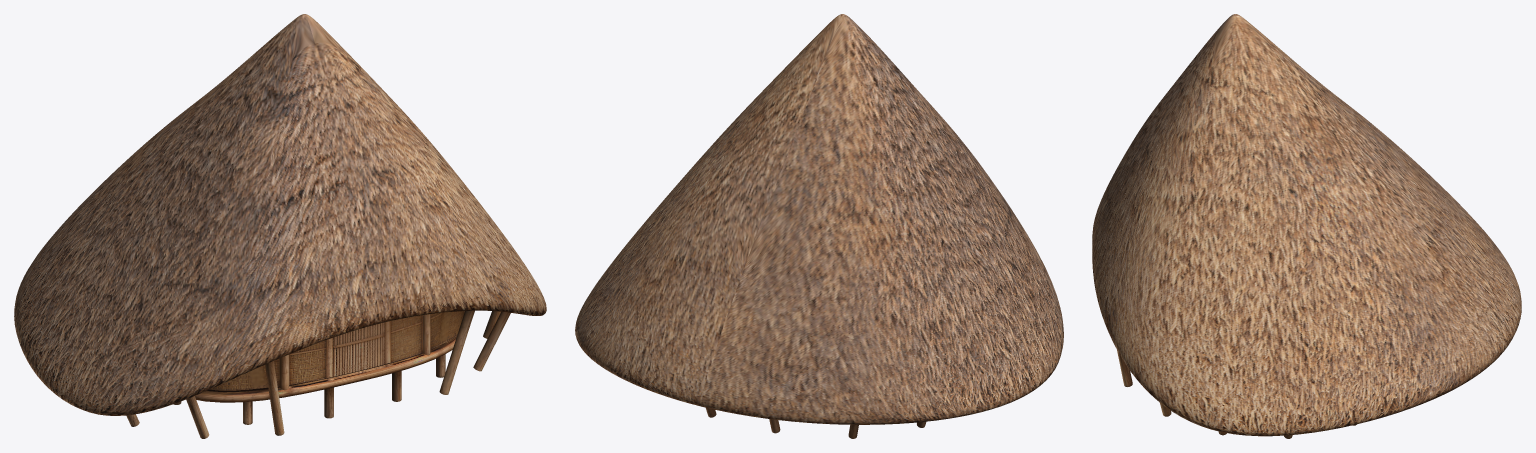
Rendered from pusaka.glb.
3 renders of one model, left to right at view 1: azimuth 30°, elevation 25°; view 2: azimuth 150°, elevation 25°; view 3: azimuth 270°, elevation 25°, orthographic. The views are drawn at different scales.
Visible parts, largest first — view 1: Cube, Cylinder, NurbsPath_011, BezierCircle, NurbsPath_009; view 2: Cube; view 3: Cube.
Boxes of the visible parts, x1,y1,x2,y2 form: Cube: (14, 14, 546, 415); Cylinder: (207, 311, 463, 392); NurbsPath_011: (126, 310, 510, 438); BezierCircle: (195, 337, 456, 402); NurbsPath_009: (173, 354, 445, 424); Cube: (575, 14, 1063, 424); Cube: (1092, 14, 1521, 436).
Size of the model in its own units: 1 by 0.7639 by 0.8676.
14 materials, 14 textured.
